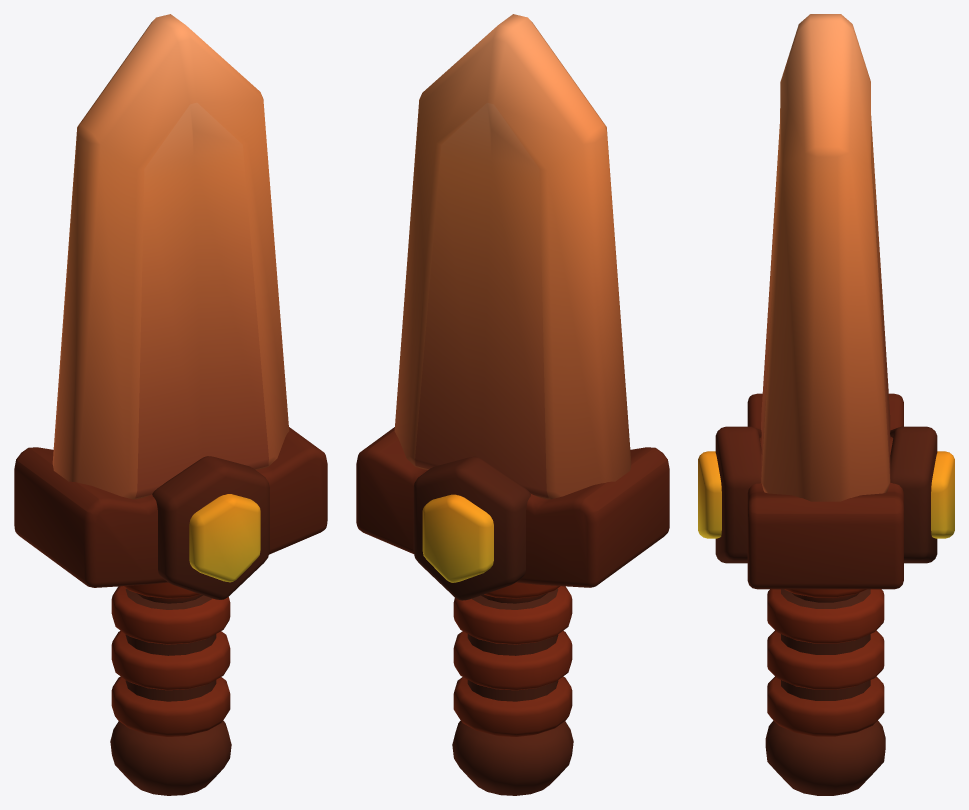
Rendered from Sword_V2_0.fbx.
The picture shows the model from 3 angles, left to right: view 1: azimuth 30°, elevation 25°; view 2: azimuth 150°, elevation 25°; view 3: azimuth 270°, elevation 25°; orthographic projection.
Visible parts, largest first — view 1: Sword_V2_0; view 2: Sword_V2_0; view 3: Sword_V2_0.
Part boxes in pixels (left/top/right/bottom): Sword_V2_0: left=14, top=14, right=327, bottom=795; Sword_V2_0: left=356, top=14, right=669, bottom=795; Sword_V2_0: left=698, top=14, right=954, bottom=795.
Bounding box in the file's own units: 0.2068 × 0.6214 × 0.189.
